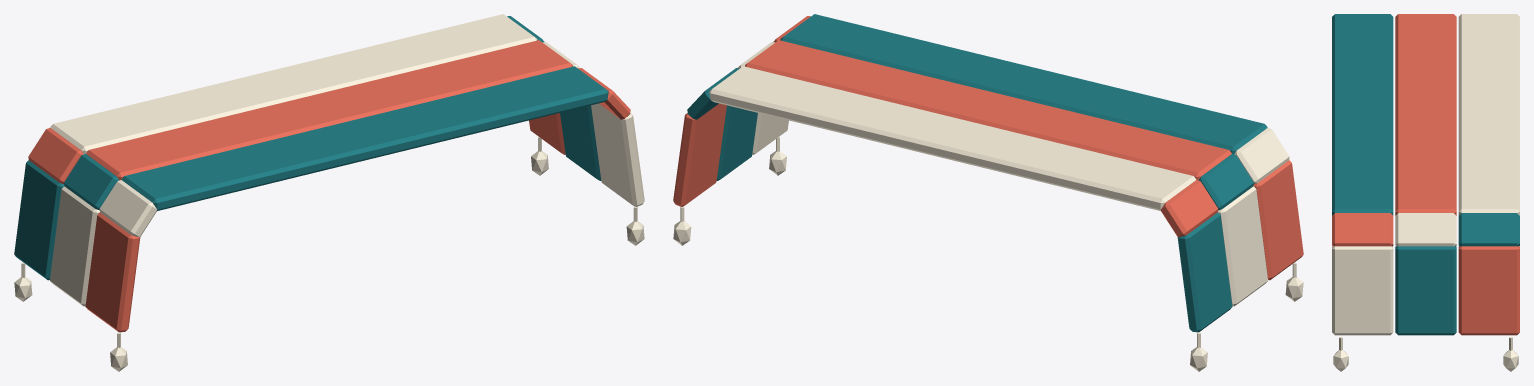
File: patchwork_throw_bed.glb
3 renders of one model, left to right at view 1: azimuth 30°, elevation 25°; view 2: azimuth 150°, elevation 25°; view 3: azimuth 270°, elevation 25°, orthographic. The views are drawn at different scales.
Visible parts, largest first — view 1: patchwork_throw_bed; view 2: patchwork_throw_bed; view 3: patchwork_throw_bed.
Boxes of the visible parts, <box> form: patchwork_throw_bed: <box>14,14,644,371</box>; patchwork_throw_bed: <box>673,14,1303,371</box>; patchwork_throw_bed: <box>1332,14,1519,371</box>.
Bounding box in the file's own units: 1.09 × 0.3285 × 0.376.
